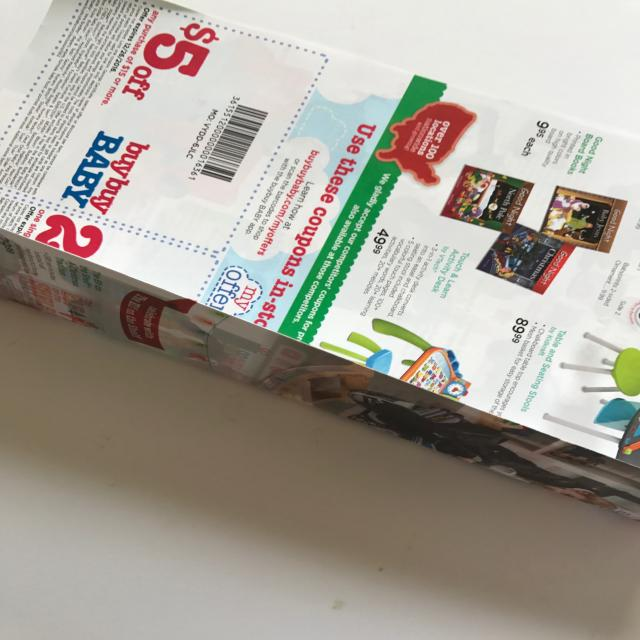paper: (1, 0, 639, 515)
